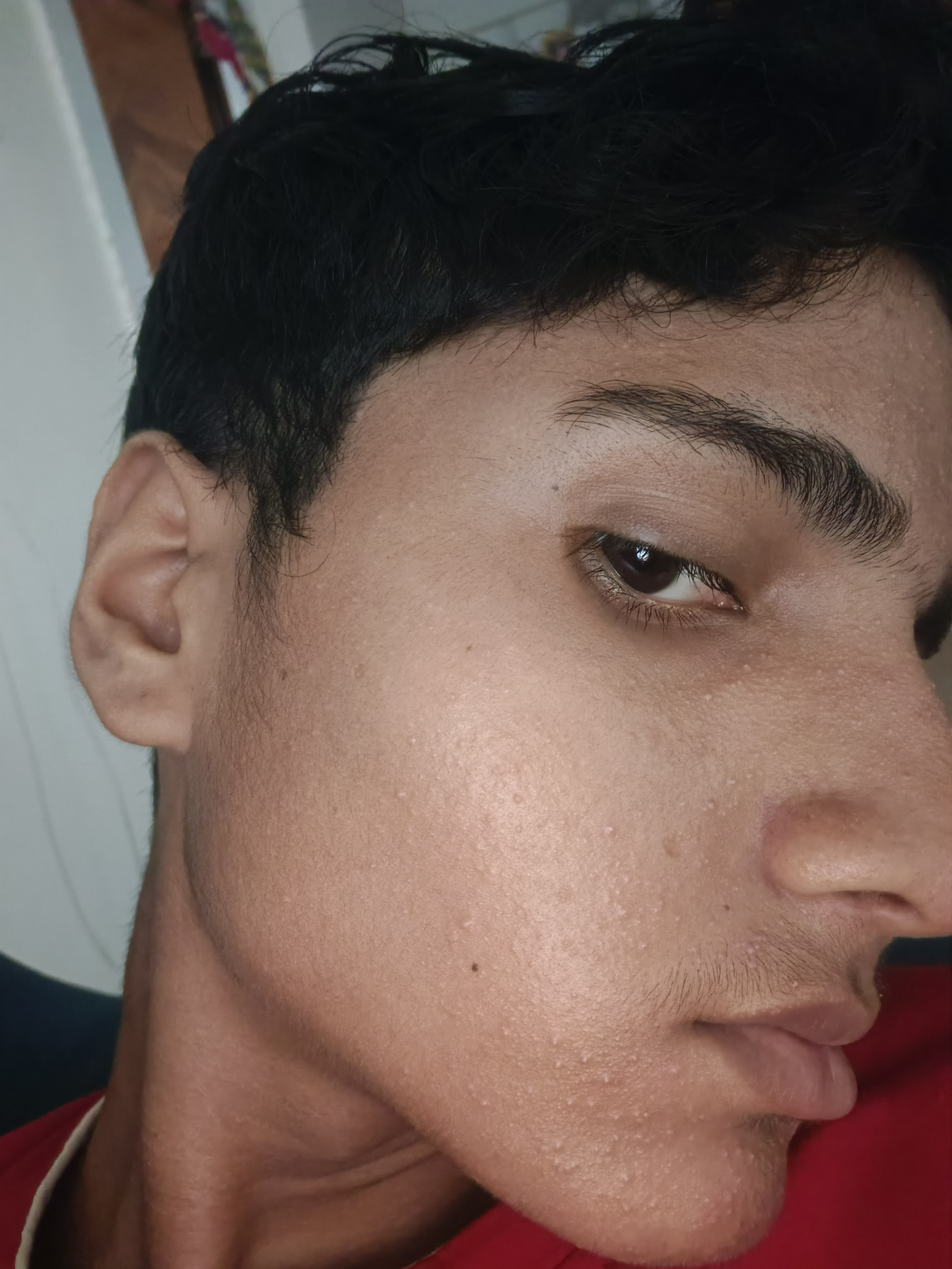closed_comedone: (442, 914, 480, 951), (506, 785, 530, 811), (544, 1037, 578, 1055), (595, 1070, 623, 1087)
